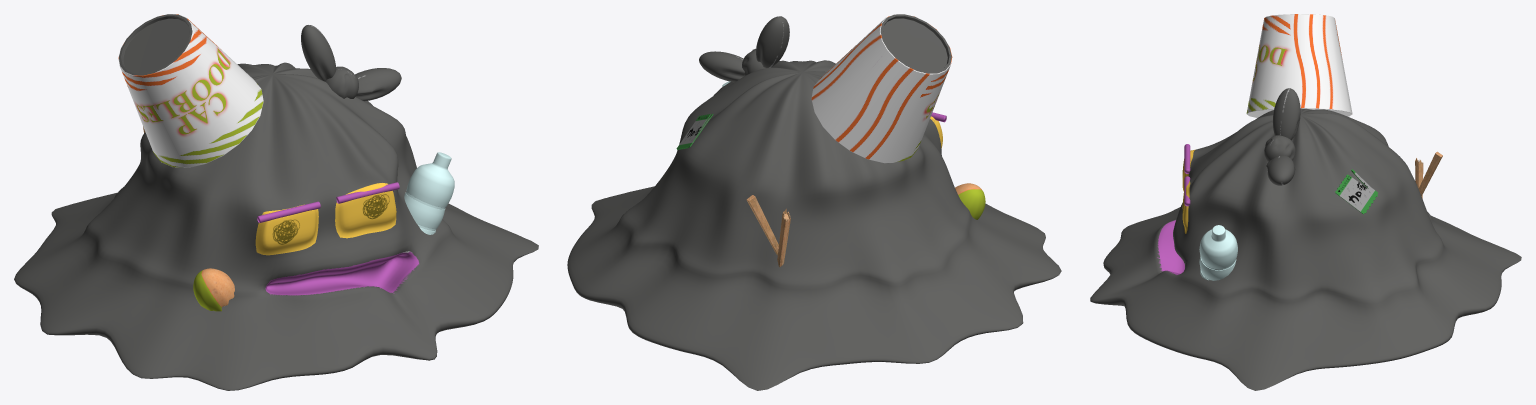
The model's file is bukuro.fbx.
3 views of the same model, side by side, from view 1: azimuth 30°, elevation 25°; view 2: azimuth 150°, elevation 25°; view 3: azimuth 270°, elevation 25° (orthographic). The views are drawn at different scales.
Parts seen in each view (by area): view 1: polySurface30, polySurface29, polySurface33, polySurface25, polySurface26, polySurface28, polySurface27, polySurface36; view 2: polySurface30, polySurface29, polySurface26, polySurface28, polySurface25, polySurface35, polySurface34, polySurface31; view 3: polySurface30, polySurface29, polySurface33, polySurface26, polySurface34, polySurface28, polySurface27.
Part boxes in pixels (left/top/right/bottom): polySurface30: left=14, top=62, right=538, bottom=390; polySurface29: left=118, top=14, right=263, bottom=167; polySurface33: left=404, top=152, right=454, bottom=234; polySurface25: left=193, top=268, right=234, bottom=311; polySurface26: left=301, top=25, right=336, bottom=81; polySurface28: left=355, top=68, right=401, bottom=101; polySurface27: left=325, top=66, right=358, bottom=98; polySurface36: left=257, top=201, right=320, bottom=222; polySurface30: left=567, top=60, right=1061, bottom=390; polySurface29: left=811, top=14, right=952, bottom=163; polySurface26: left=756, top=16, right=789, bottom=67; polySurface28: left=699, top=51, right=744, bottom=82; polySurface25: left=955, top=183, right=985, bottom=219; polySurface35: left=746, top=195, right=778, bottom=254; polySurface34: left=676, top=113, right=713, bottom=150; polySurface31: left=777, top=208, right=790, bottom=267; polySurface30: left=1090, top=108, right=1521, bottom=390; polySurface29: left=1246, top=14, right=1352, bottom=117; polySurface33: left=1199, top=225, right=1237, bottom=280; polySurface26: left=1272, top=88, right=1300, bottom=140; polySurface34: left=1335, top=169, right=1377, bottom=214; polySurface28: left=1266, top=155, right=1295, bottom=185; polySurface27: left=1264, top=135, right=1295, bottom=162.
Size of the model in its own units: 41.17 by 24.34 by 39.15.
1 material, 1 textured.
